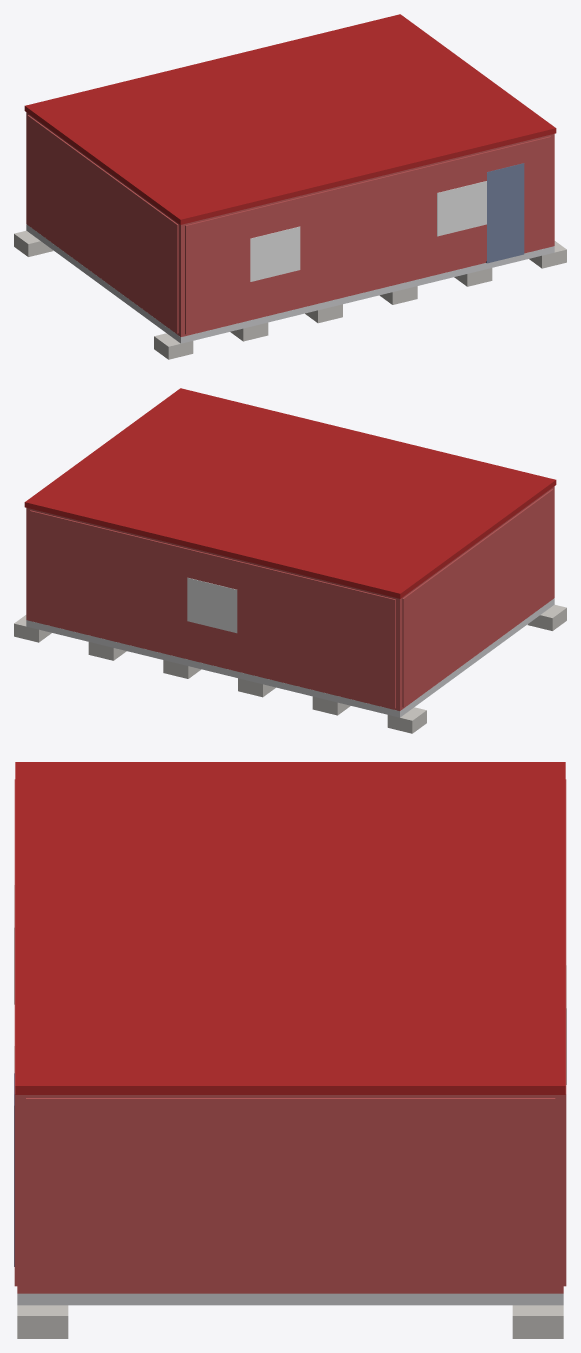
Rendered from Studio-30-Base-CrimsonRed-LOD1.glb.
The picture shows the model from 3 angles, top to bottom: view 1: azimuth 30°, elevation 25°; view 2: azimuth 150°, elevation 25°; view 3: azimuth 270°, elevation 25°; orthographic projection. The views are drawn at different scales.
Parts seen in each view (by area): view 1: RoofMain, ExteriorPanelsStandard, WindowsStandard, BaseFrame, FoundationBlocks, EntryDoor, ExteriorShell; view 2: RoofMain, ExteriorPanelsStandard, BaseFrame, FoundationBlocks, ExteriorShell, WindowsStandard; view 3: RoofMain, ExteriorPanelsStandard, BaseFrame, ExteriorShell, FoundationBlocks.
Boxes of the visible parts, <box> form: RoofMain: <box>24,14,556,224</box>; ExteriorPanelsStandard: <box>27,115,551,334</box>; WindowsStandard: <box>250,181,486,281</box>; BaseFrame: <box>26,224,554,343</box>; FoundationBlocks: <box>14,230,566,359</box>; EntryDoor: <box>486,163,524,263</box>; ExteriorShell: <box>26,112,554,336</box>; RoofMain: <box>24,388,556,598</box>; ExteriorPanelsStandard: <box>30,489,553,708</box>; BaseFrame: <box>26,598,554,717</box>; FoundationBlocks: <box>14,604,566,733</box>; ExteriorShell: <box>26,486,554,710</box>; WindowsStandard: <box>187,577,237,633</box>; RoofMain: <box>15,762,565,1094</box>; ExteriorPanelsStandard: <box>14,779,566,1290</box>; BaseFrame: <box>17,1293,563,1305</box>; ExteriorShell: <box>17,1095,563,1293</box>; FoundationBlocks: <box>17,1305,563,1338</box>.
Size of the model in its own units: 9.6 by 3.17 by 6.53.
